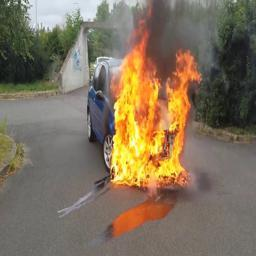fire: (112, 0, 204, 182)
